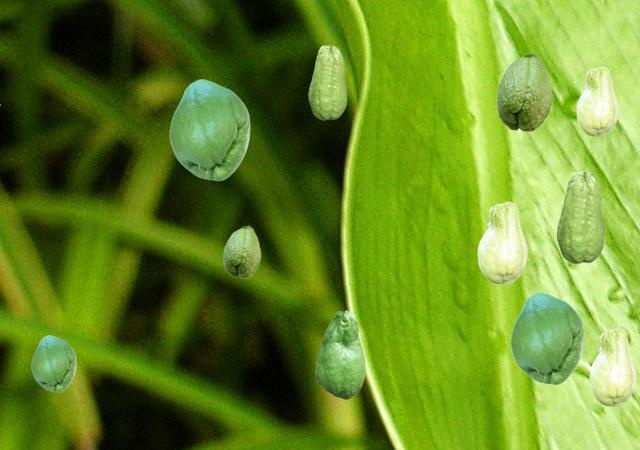sayote: (169, 79, 249, 180), (510, 292, 583, 384), (496, 52, 552, 131), (556, 171, 604, 263), (315, 310, 364, 398), (477, 201, 526, 284), (589, 327, 635, 406), (576, 66, 617, 136), (308, 45, 346, 119), (31, 335, 75, 391), (223, 225, 260, 277)
